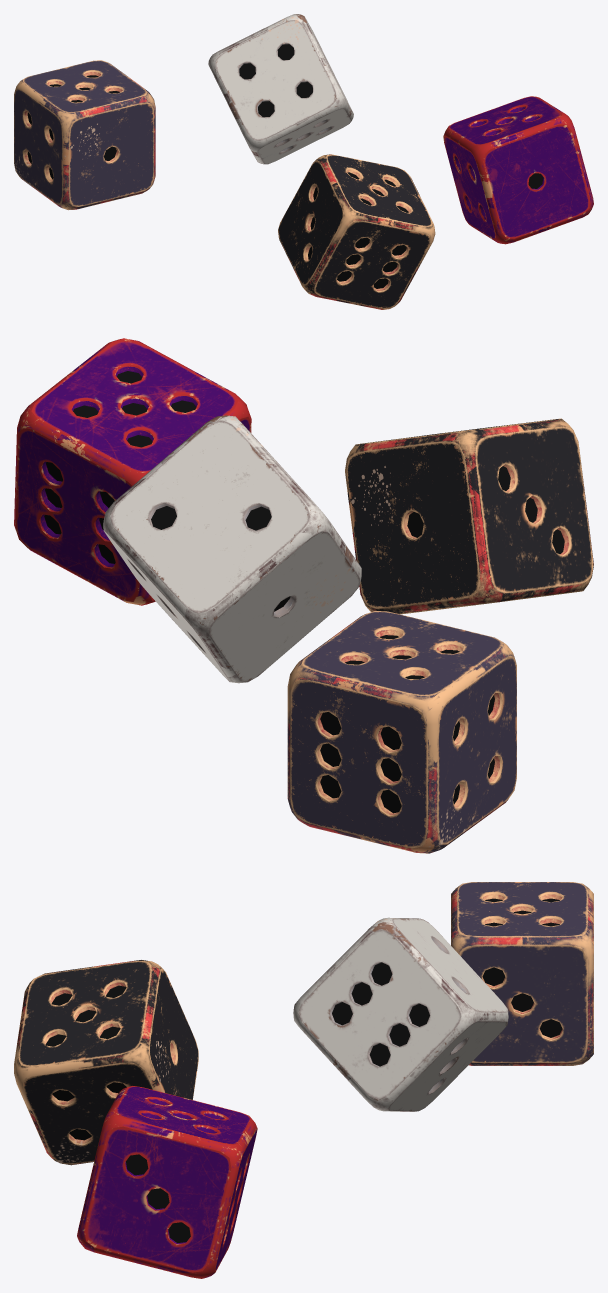
File: Dice03.fbx
3 views of the same model, one above another, from view 1: azimuth 30°, elevation 25°; view 2: azimuth 150°, elevation 25°; view 3: azimuth 270°, elevation 25° (orthographic). The views are drawn at different scales.
Parts seen in each view (by area): view 1: dice_01, dice_02, dice_00, dice_03; view 2: dice_02, dice_01, dice_03, dice_00; view 3: dice_03, dice_01, dice_00, dice_02.
Part boxes in pixels (left/top/right/bottom): dice_01: left=278, top=154, right=435, bottom=309; dice_02: left=14, top=60, right=155, bottom=210; dice_00: left=443, top=96, right=593, bottom=244; dice_03: left=208, top=14, right=353, bottom=164; dice_02: left=287, top=611, right=516, bottom=853; dice_01: left=345, top=418, right=593, bottom=614; dice_03: left=103, top=415, right=361, bottom=683; dice_00: left=14, top=338, right=251, bottom=605; dice_03: left=293, top=917, right=508, bottom=1111; dice_01: left=14, top=960, right=198, bottom=1165; dice_00: left=77, top=1086, right=257, bottom=1278; dice_02: left=451, top=882, right=593, bottom=1065.
Bounding box in the file's own units: 869 × 404 × 812.
